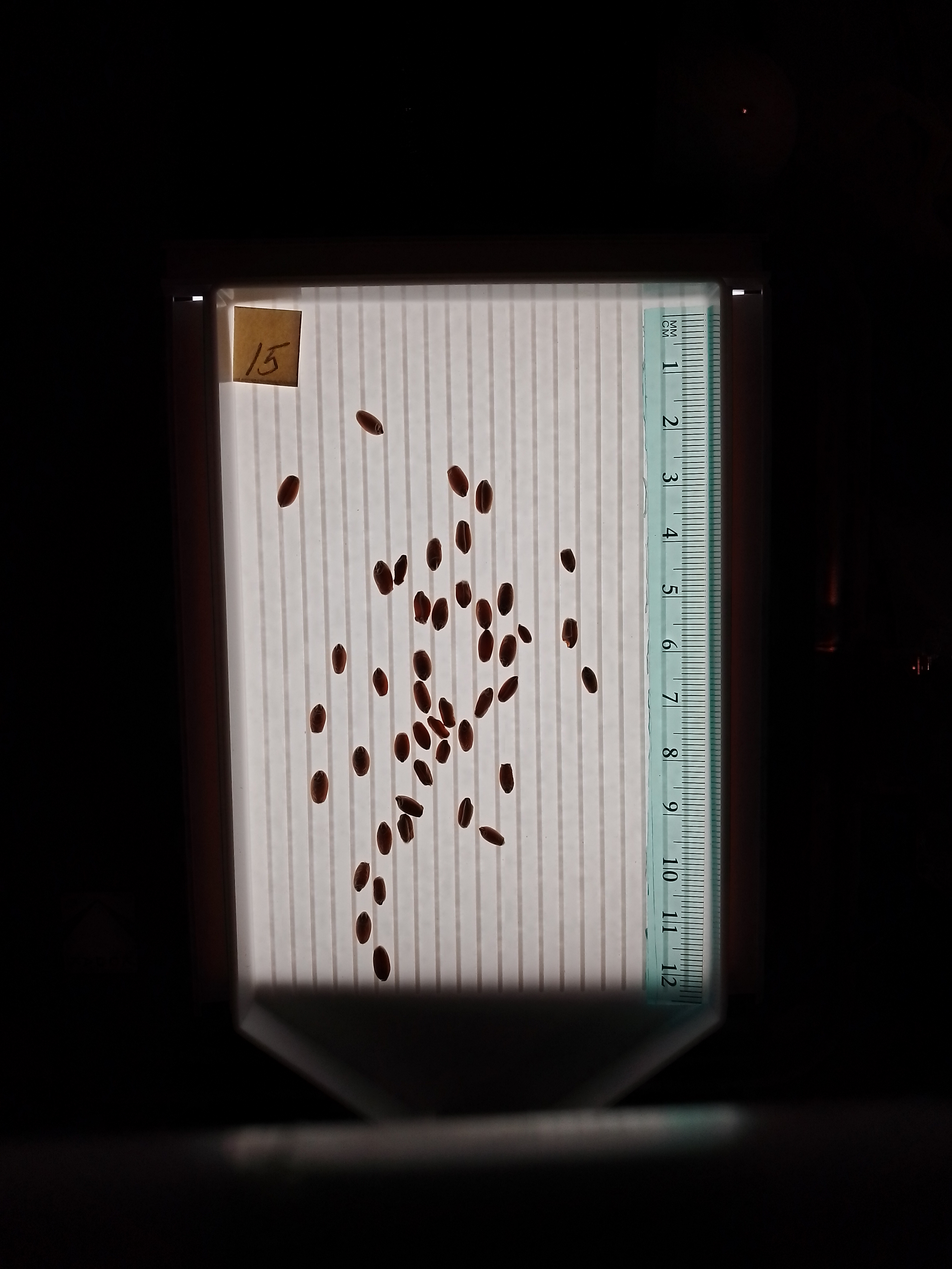seed mask: (277, 476, 299, 508), (357, 410, 384, 436), (373, 562, 393, 595), (447, 465, 468, 496), (373, 946, 391, 981), (396, 795, 423, 817), (476, 480, 493, 514), (413, 592, 431, 624), (310, 772, 328, 803), (414, 681, 431, 713), (455, 522, 472, 554), (499, 636, 517, 666), (413, 650, 431, 679), (432, 598, 448, 630), (353, 746, 370, 776), (475, 689, 493, 717), (426, 539, 442, 570), (356, 913, 372, 944), (376, 823, 392, 854), (499, 677, 518, 703), (353, 862, 370, 891), (309, 704, 326, 733), (480, 826, 504, 846), (562, 618, 578, 648), (458, 720, 473, 752), (458, 798, 473, 828), (414, 760, 432, 785), (498, 584, 513, 614), (398, 815, 414, 843), (394, 733, 410, 761), (478, 633, 493, 662), (439, 699, 454, 728), (332, 645, 347, 674), (582, 667, 598, 694), (476, 599, 491, 627), (455, 582, 471, 608), (414, 723, 430, 749), (394, 556, 408, 585), (499, 764, 513, 793), (373, 669, 388, 696), (428, 717, 446, 738), (561, 549, 576, 572), (373, 878, 386, 904), (436, 741, 450, 763), (519, 625, 532, 644)
